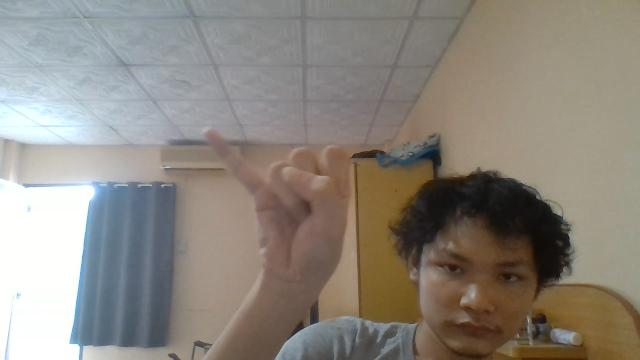Right: (204, 128, 358, 294)
